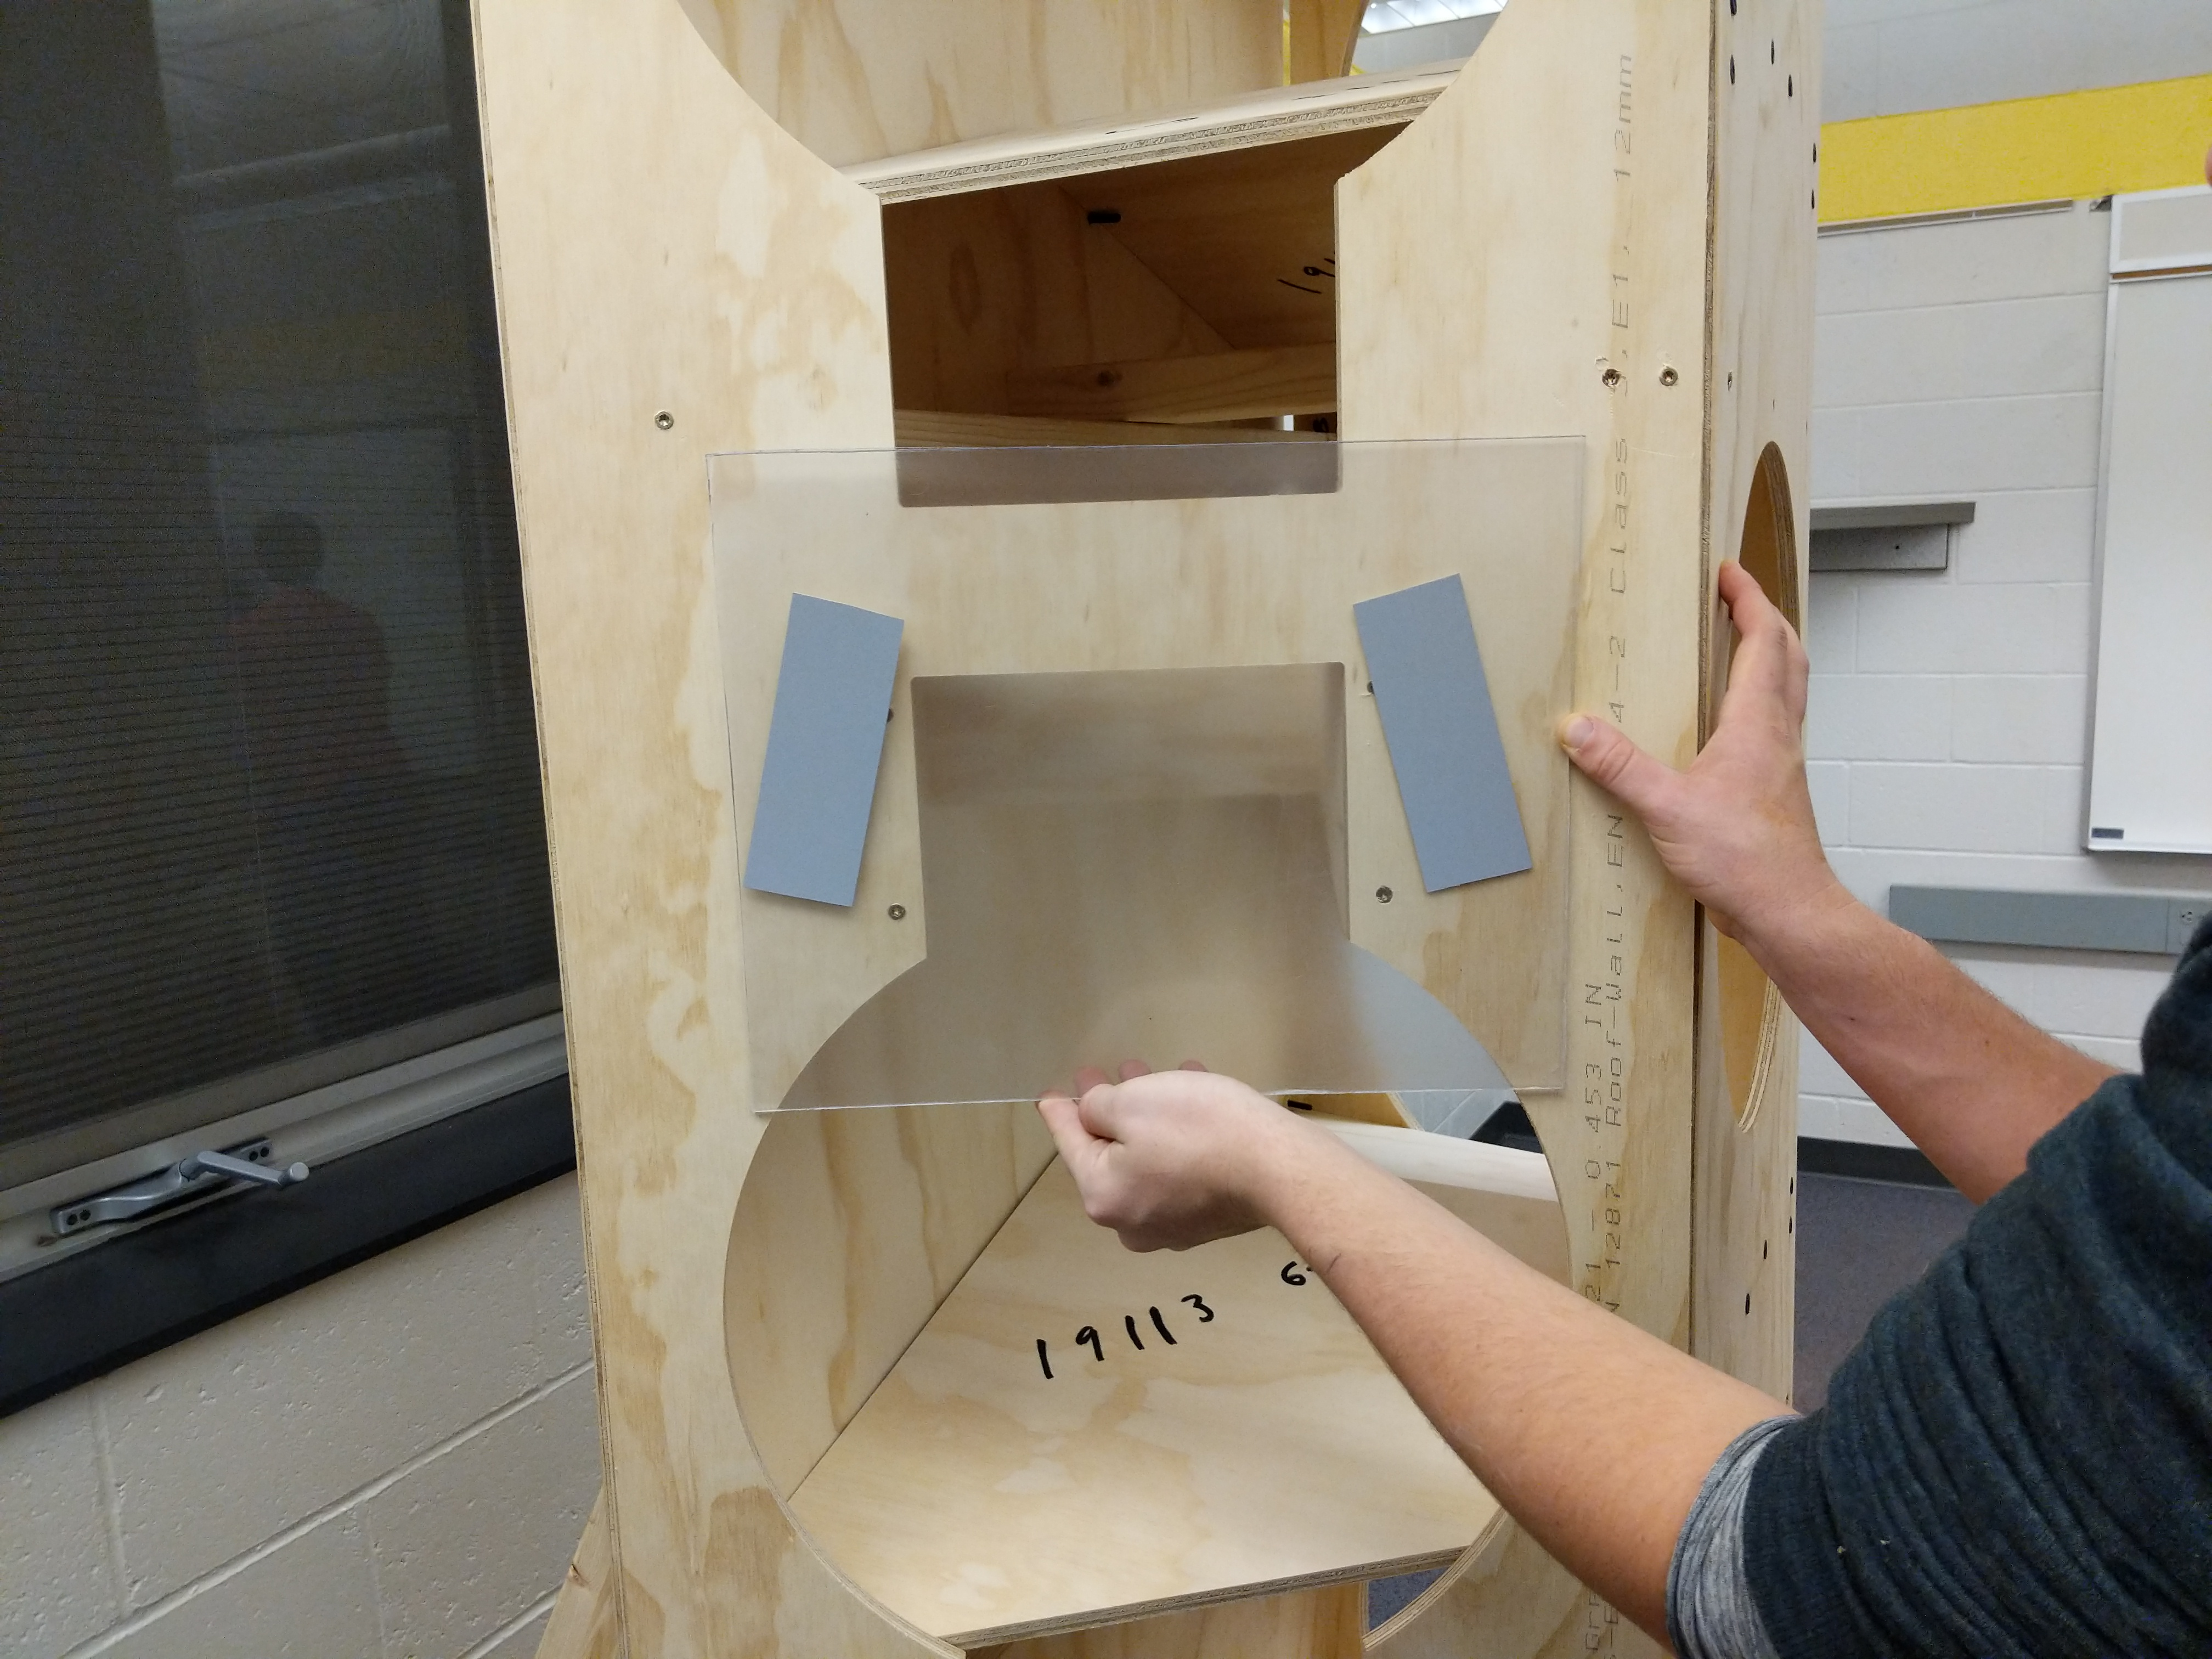vision_target: (730, 568, 1543, 913)
